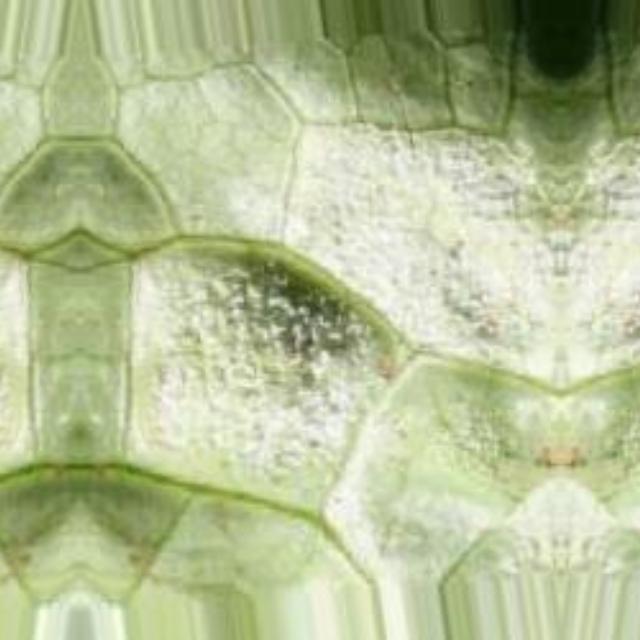Downy_mildew: (174, 210, 422, 458), (358, 79, 560, 261), (560, 79, 640, 261)
